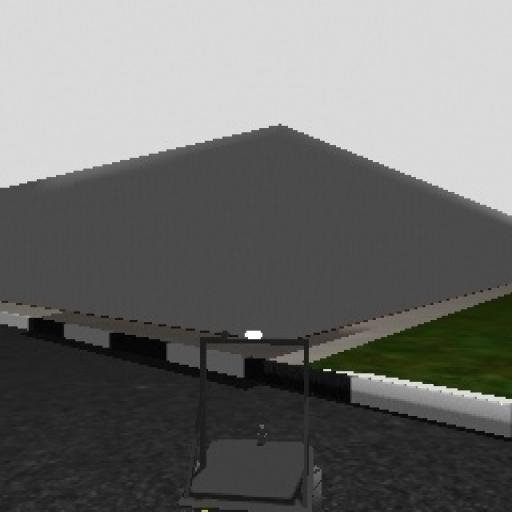huskya200: (172, 303, 332, 512)
